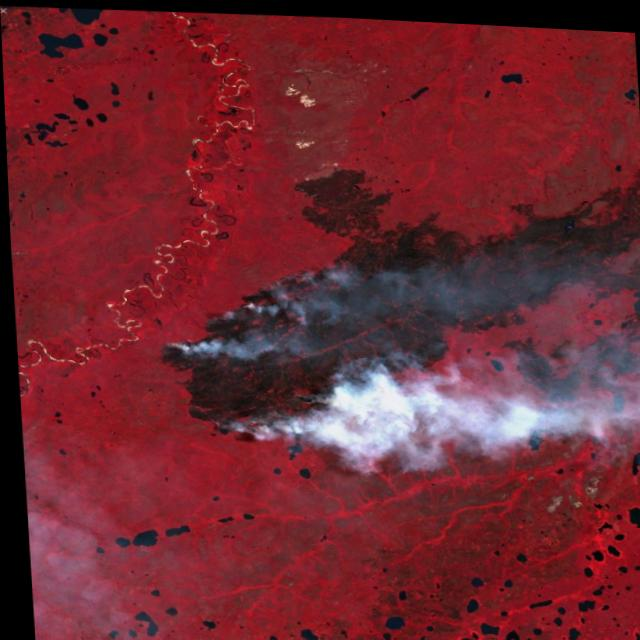fire: (145, 253, 366, 452)
